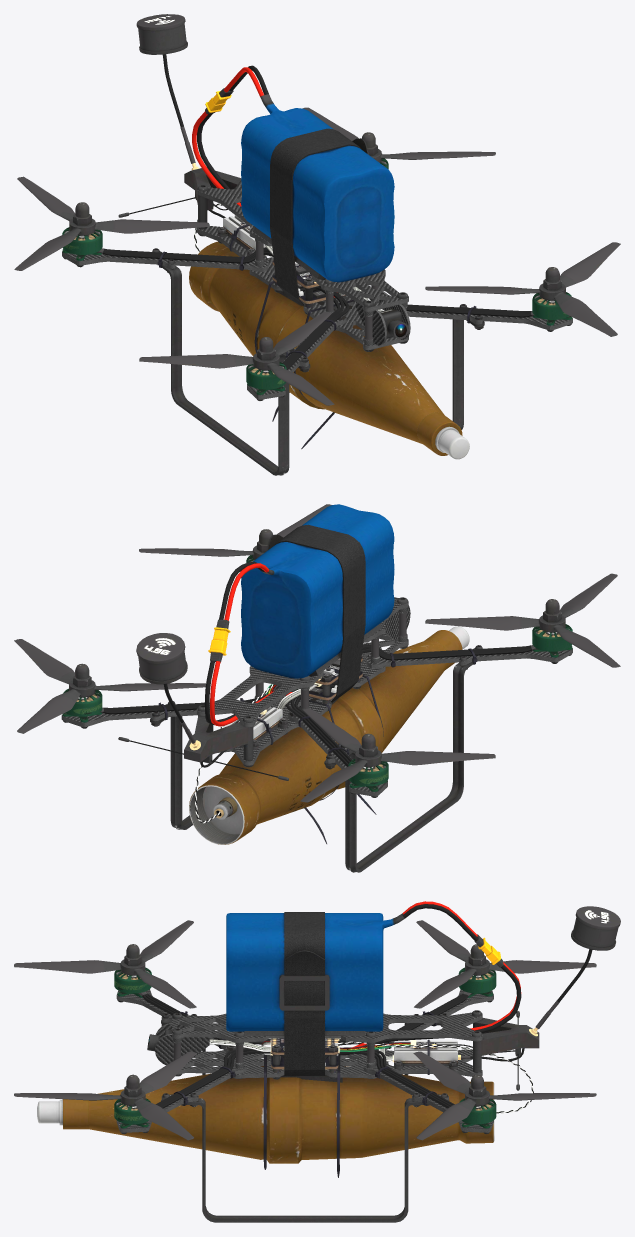
Rendered from fpv_drone.glb.
3 renders of one model, top to bottom at view 1: azimuth 30°, elevation 25°; view 2: azimuth 150°, elevation 25°; view 3: azimuth 270°, elevation 25°, orthographic. The views are drawn at different scales.
Visible parts, largest first — view 1: Object_4, Object_5, Object_6, Object_7; view 2: Object_4, Object_5, Object_6, Object_7, Object_3; view 3: Object_4, Object_6, Object_5, Object_7, Object_3.
Boxes of the visible parts, x1,y1,x2,y2 form: Object_4: (189,65,469,459); Object_5: (14,176,484,475); Object_6: (118,14,620,336); Object_7: (62,247,572,400); Object_4: (189,504,469,844); Object_5: (150,573,620,872); Object_6: (14,504,331,780); Object_7: (61,644,572,797); Object_3: (62,558,572,791); Object_4: (37,901,533,1177); Object_6: (14,906,620,1140); Object_5: (14,920,596,1222); Object_7: (116,989,493,1134); Object_3: (117,971,492,1128).
Size of what is drawn, in the model's own units: 0.4761 by 0.2915 by 0.5554.
1 material, 1 textured.
